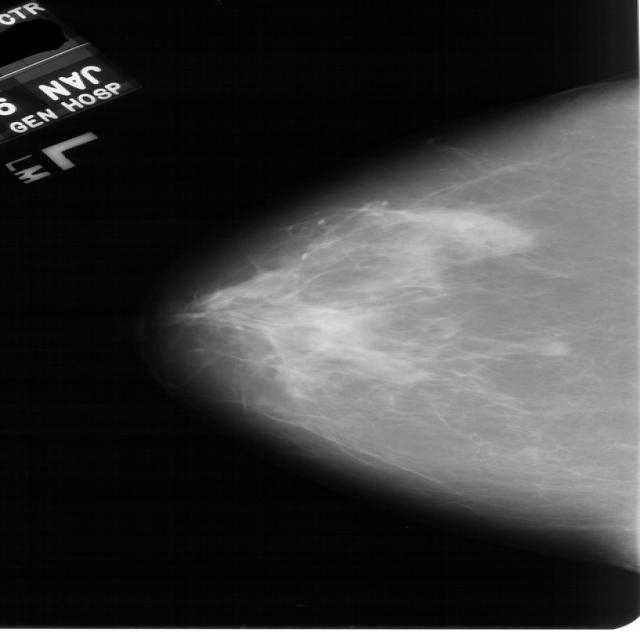tumour: (539, 339, 568, 356)
